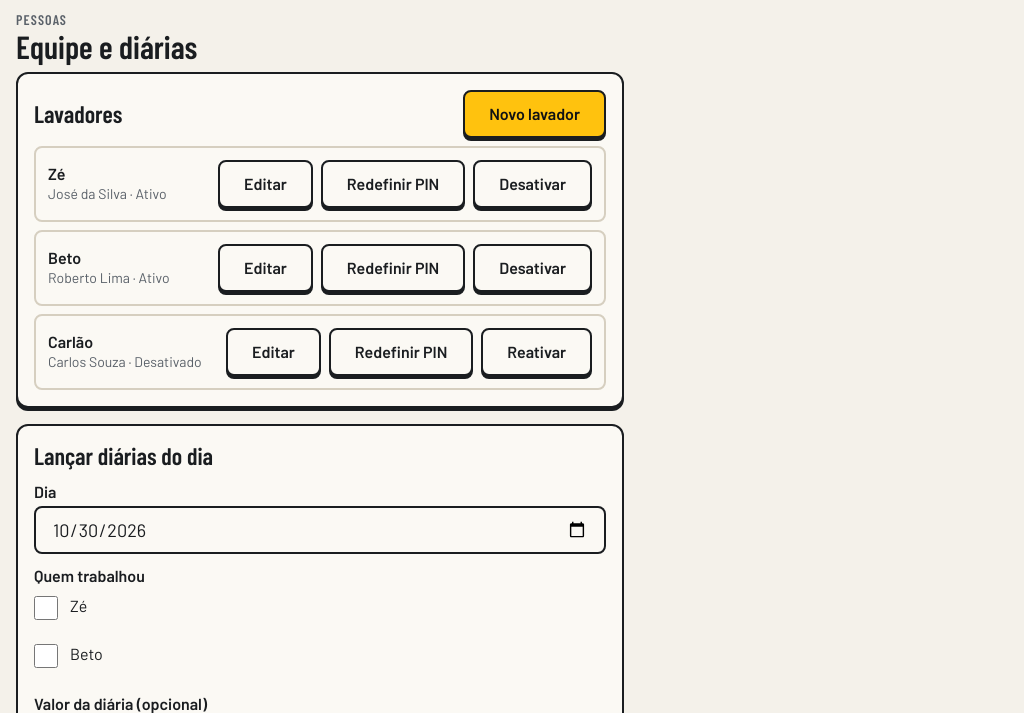
Scenario: Equipe e diárias › cadastra um lavador novo validando nome, apelido e PIN
Click the button "Novo lavador" at (535, 114), box top-left (463, 90), bottom-right (606, 138)
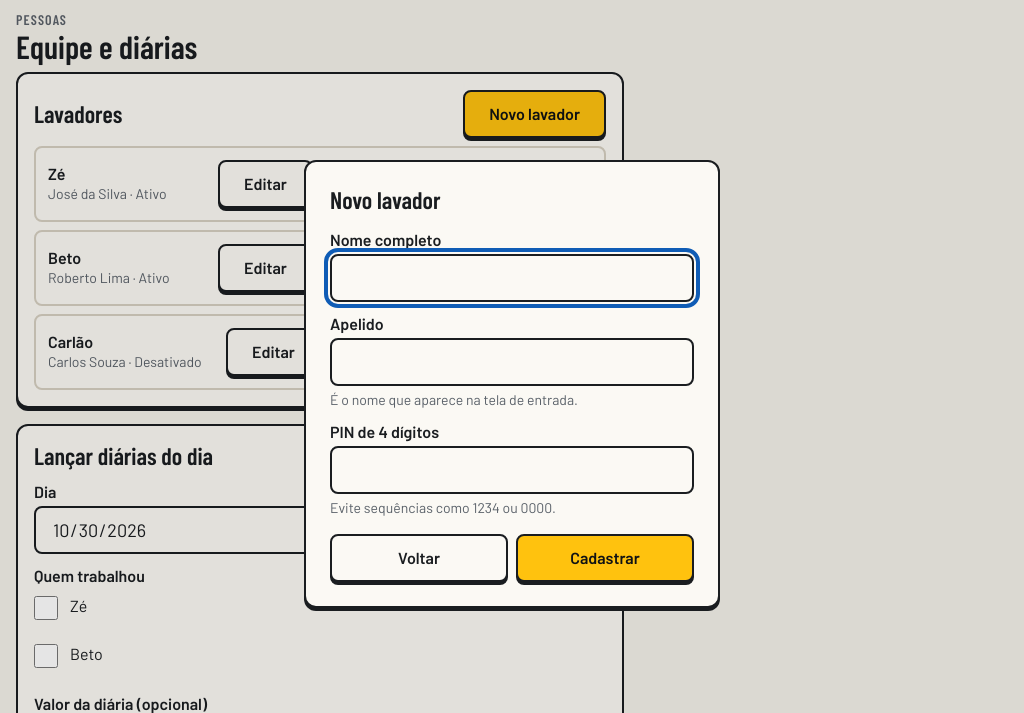
Click the button "Cadastrar" at (605, 558), box top-left (516, 534), bottom-right (694, 582)
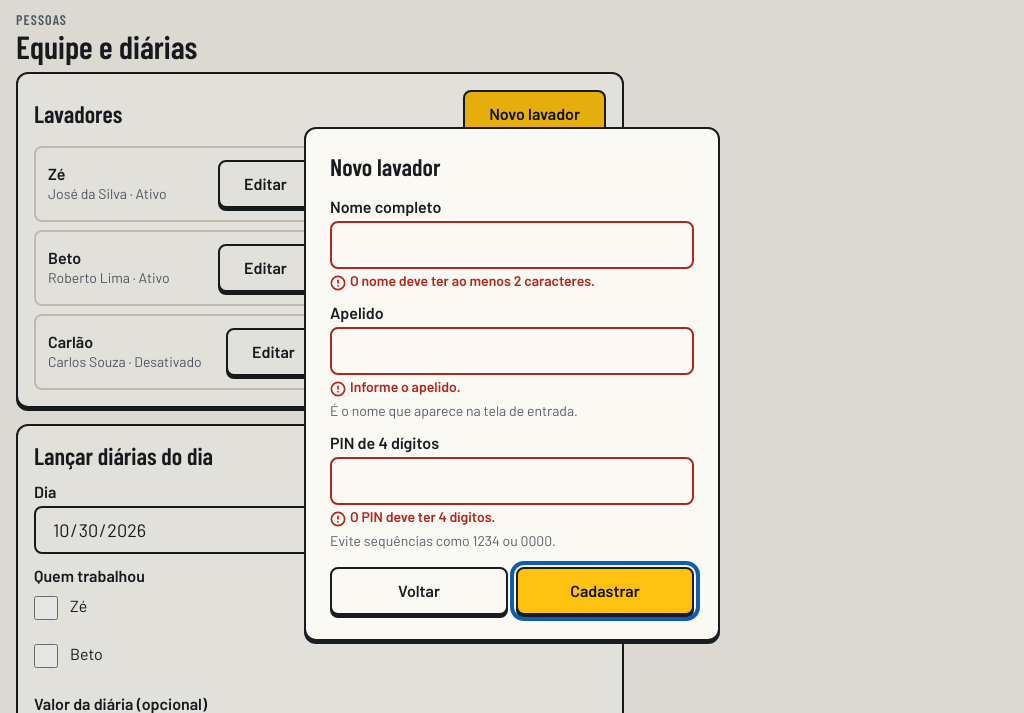
Now the text "Informe o apelido." is shown, box top-left (330, 378), bottom-right (460, 397)
Now the text "O PIN deve ter 4 dígitos." is shown, box top-left (330, 508), bottom-right (495, 527)
Type "Pedro Alves" into the field labelled "Nome completo" at (512, 245), box top-left (330, 221), bottom-right (694, 269)
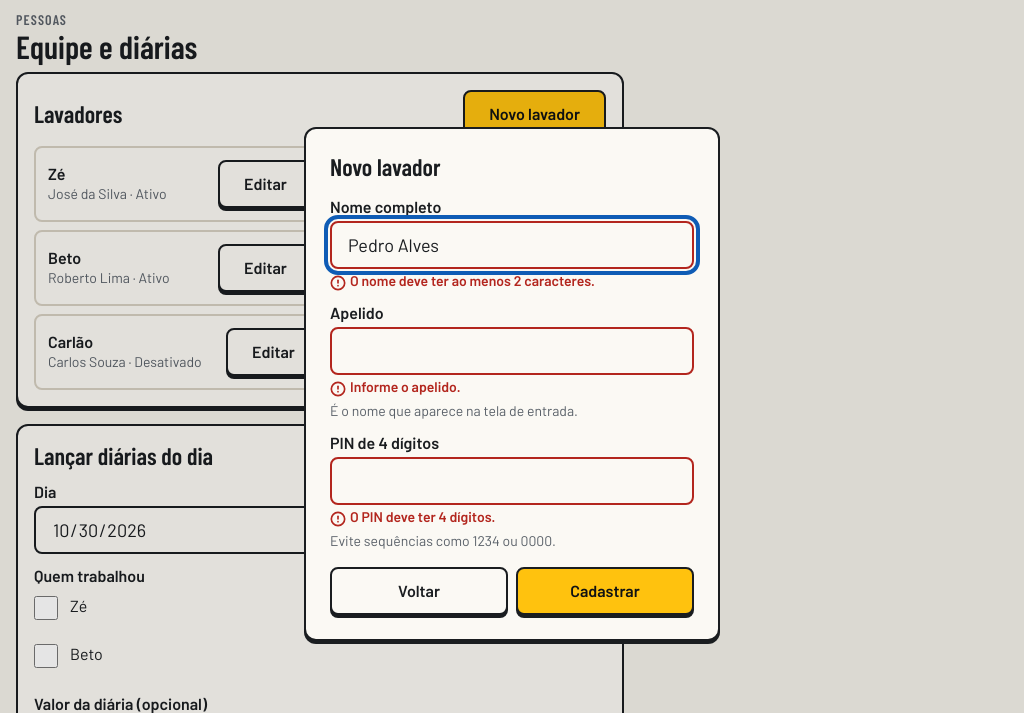
Type "Pedrão" into the field labelled "Apelido" at (512, 351), box top-left (330, 327), bottom-right (694, 375)
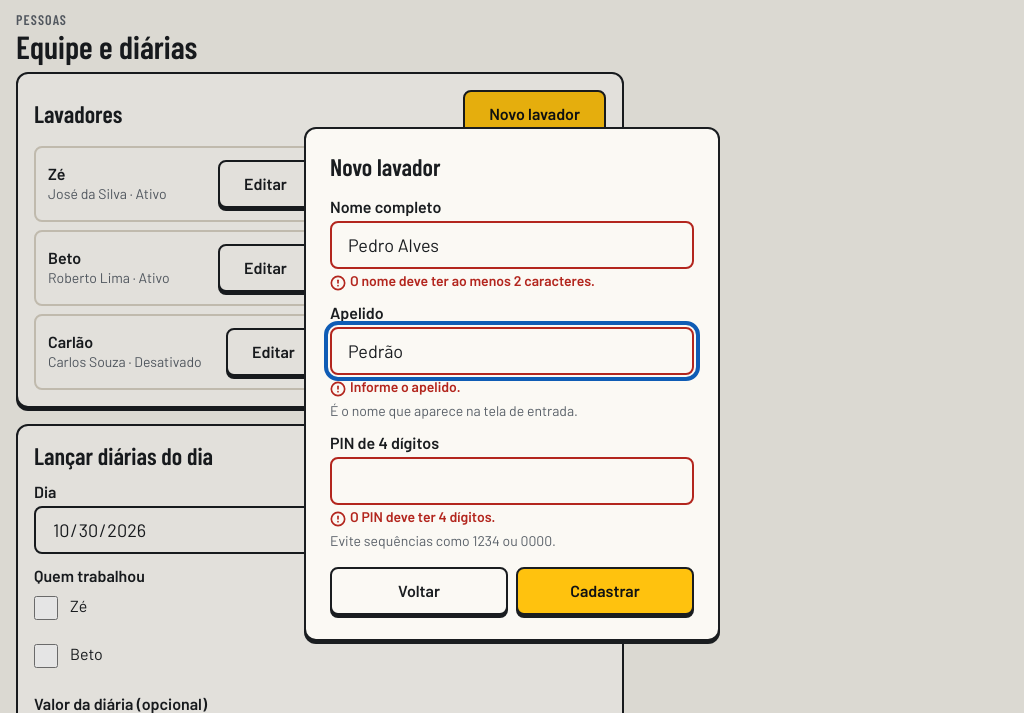
Type "4829" into the field labelled "PIN de 4 dígitos" at (512, 481), box top-left (330, 457), bottom-right (694, 505)
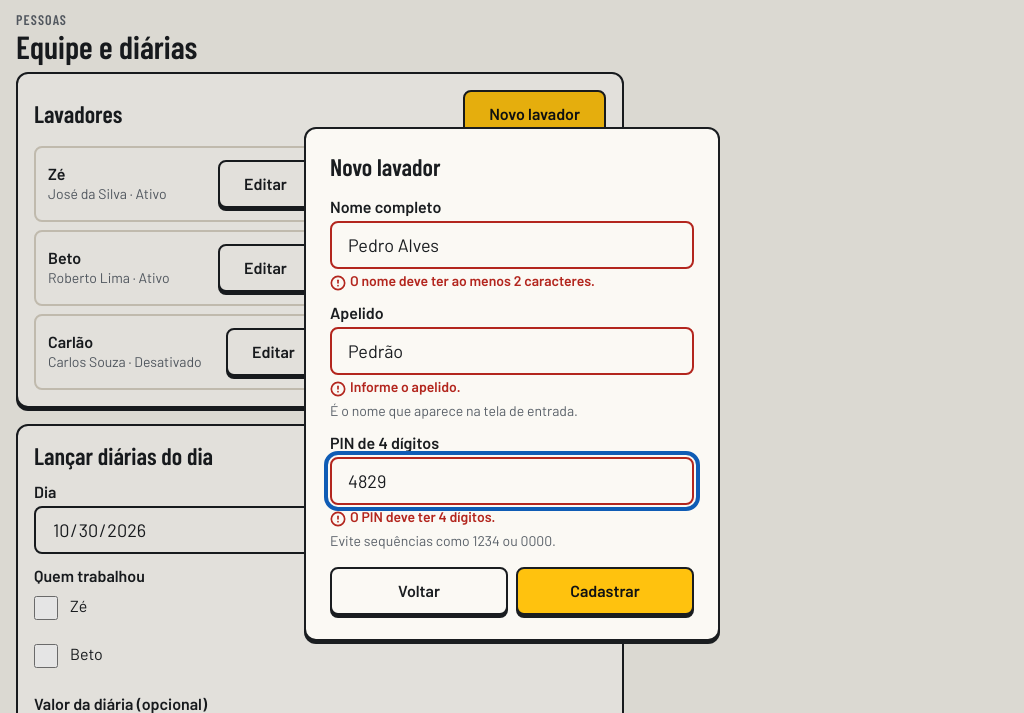
Click the button "Cadastrar" at (605, 591), box top-left (516, 567), bottom-right (694, 615)
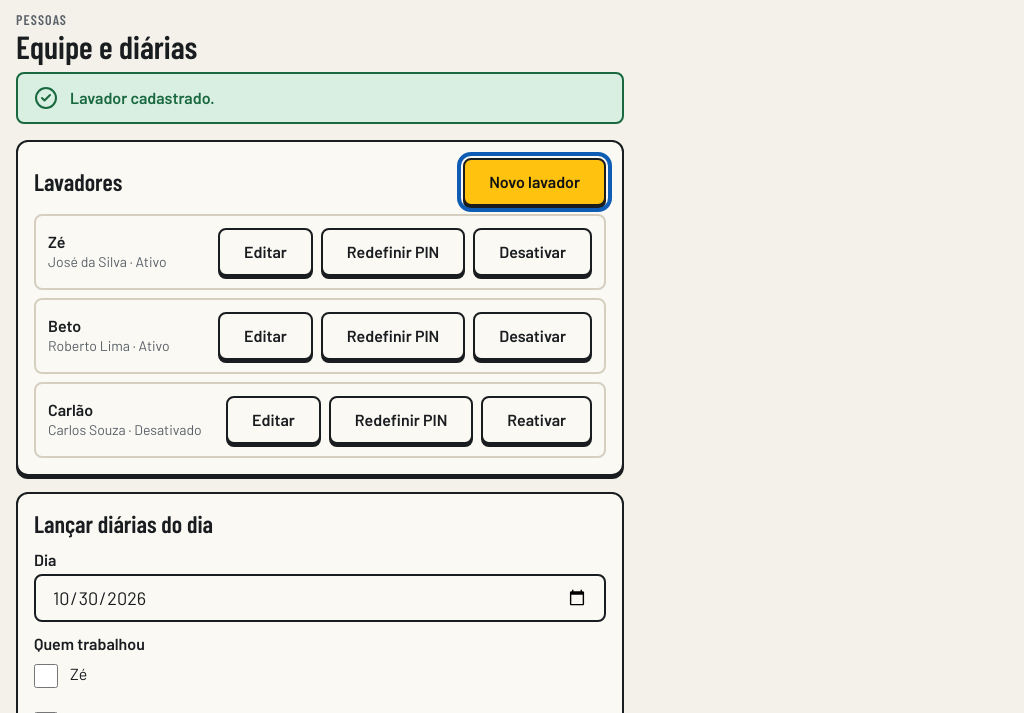
Now the text "Lavador cadastrado." is shown, box top-left (70, 88), bottom-right (215, 107)
